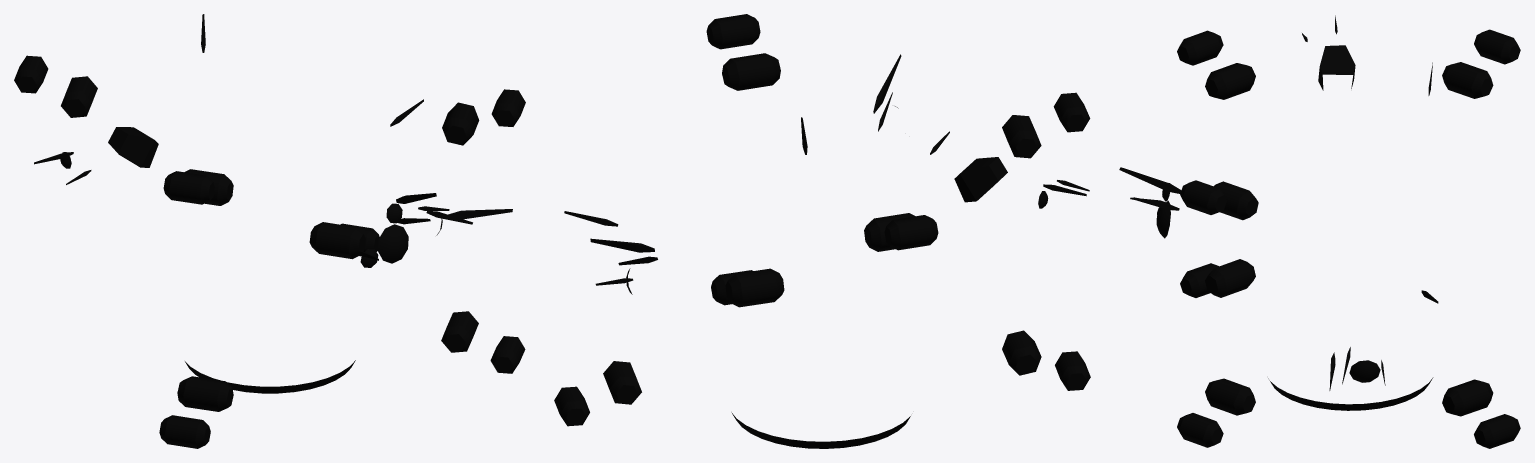
The model's file is ama_pf_inhi_01_t3.glb.
3 renders of one model, left to right at view 1: azimuth 30°, elevation 25°; view 2: azimuth 150°, elevation 25°; view 3: azimuth 270°, elevation 25°, orthographic. The views are drawn at different scales.
Parts seen in each view (by area): view 1: ama_inhibitor_platform_LOD0, ama_inhibitor_platform_disc_01; view 2: ama_inhibitor_platform_LOD0, ama_inhibitor_platform_disc_01; view 3: ama_inhibitor_platform_LOD0, ama_inhibitor_platform_disc_01.
Boxes of the visible parts, box(x1,y1,x2,y2) form: ama_inhibitor_platform_LOD0: box(14, 14, 525, 448); ama_inhibitor_platform_disc_01: box(185, 360, 355, 393); ama_inhibitor_platform_LOD0: box(554, 14, 1090, 426); ama_inhibitor_platform_disc_01: box(731, 412, 910, 448); ama_inhibitor_platform_LOD0: box(1119, 15, 1520, 448); ama_inhibitor_platform_disc_01: box(1268, 377, 1433, 410).
Size of what is drawn, in the model's own units: 3.43 by 2.19 by 2.63.
1 material, 1 textured.
